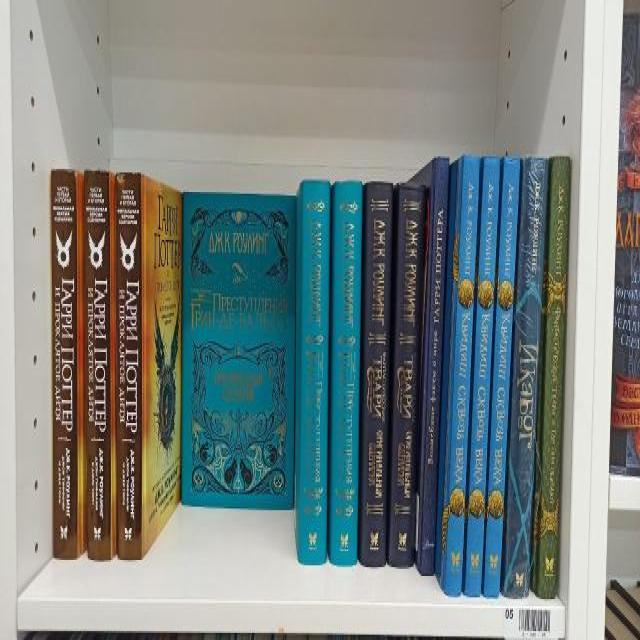book: (503, 157, 549, 598), (464, 156, 501, 596), (484, 158, 521, 596), (537, 156, 571, 599), (446, 157, 479, 597), (389, 183, 423, 565), (360, 182, 393, 565), (331, 181, 362, 561), (422, 156, 450, 576), (300, 180, 329, 564), (51, 170, 77, 561), (85, 170, 111, 561), (117, 172, 143, 559)
